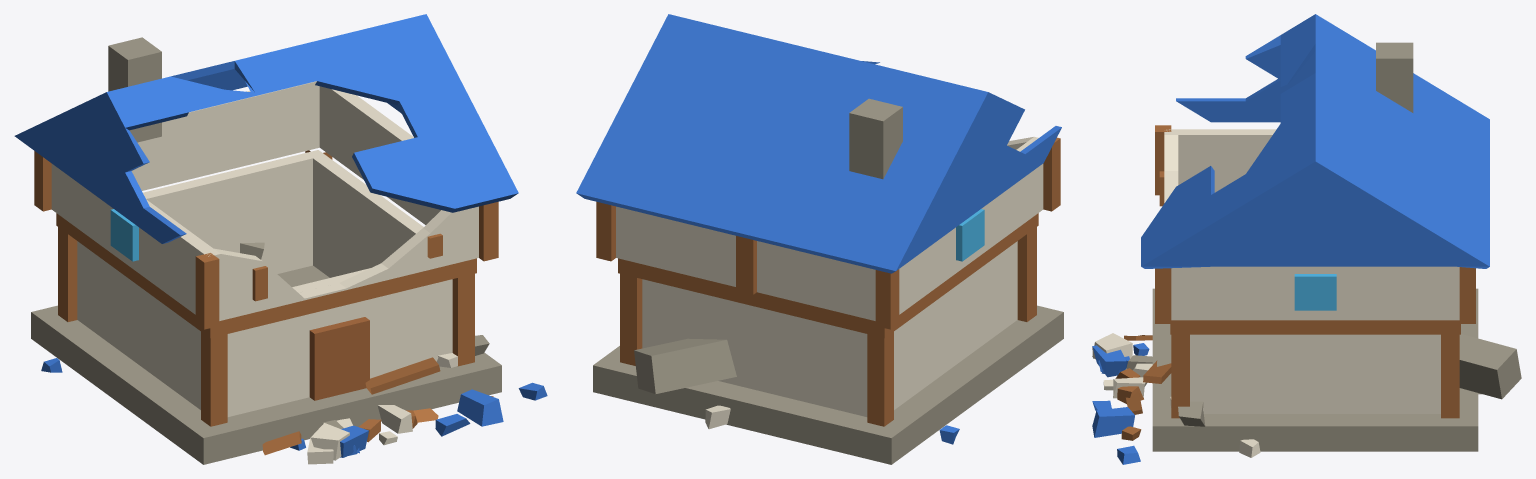
Rendered from house_t2_v2_dmg1.glb.
The picture shows the model from 3 angles, left to right: view 1: azimuth 30°, elevation 25°; view 2: azimuth 150°, elevation 25°; view 3: azimuth 270°, elevation 25°; orthographic projection. The views are drawn at different scales.
Parts seen in each view (by area): view 1: house_t2_v2_dmg1; view 2: house_t2_v2_dmg1; view 3: house_t2_v2_dmg1.
Part boxes in pixels (x1,y1,x2,y2): house_t2_v2_dmg1: [14, 14, 547, 464]; house_t2_v2_dmg1: [576, 14, 1063, 464]; house_t2_v2_dmg1: [1092, 14, 1521, 464].
Bounding box in the file's own units: 0.8306 × 0.7 × 0.9231.
Materials: 1 (1 with a texture image).
